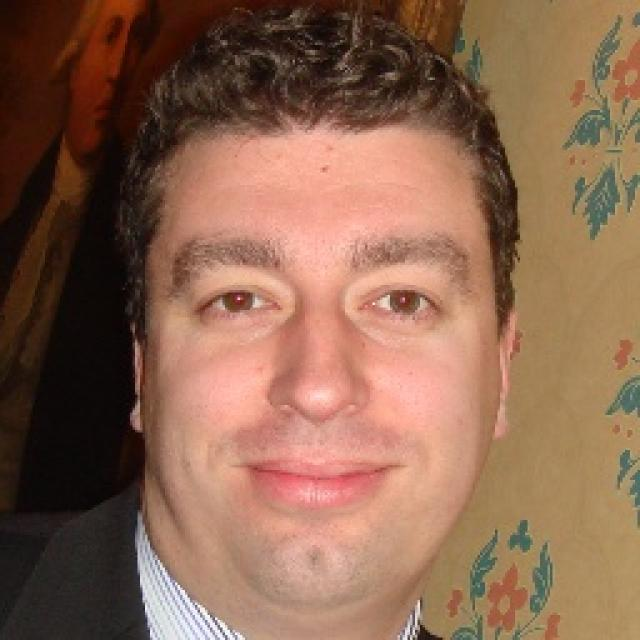earlobe: (492, 304, 516, 440)
